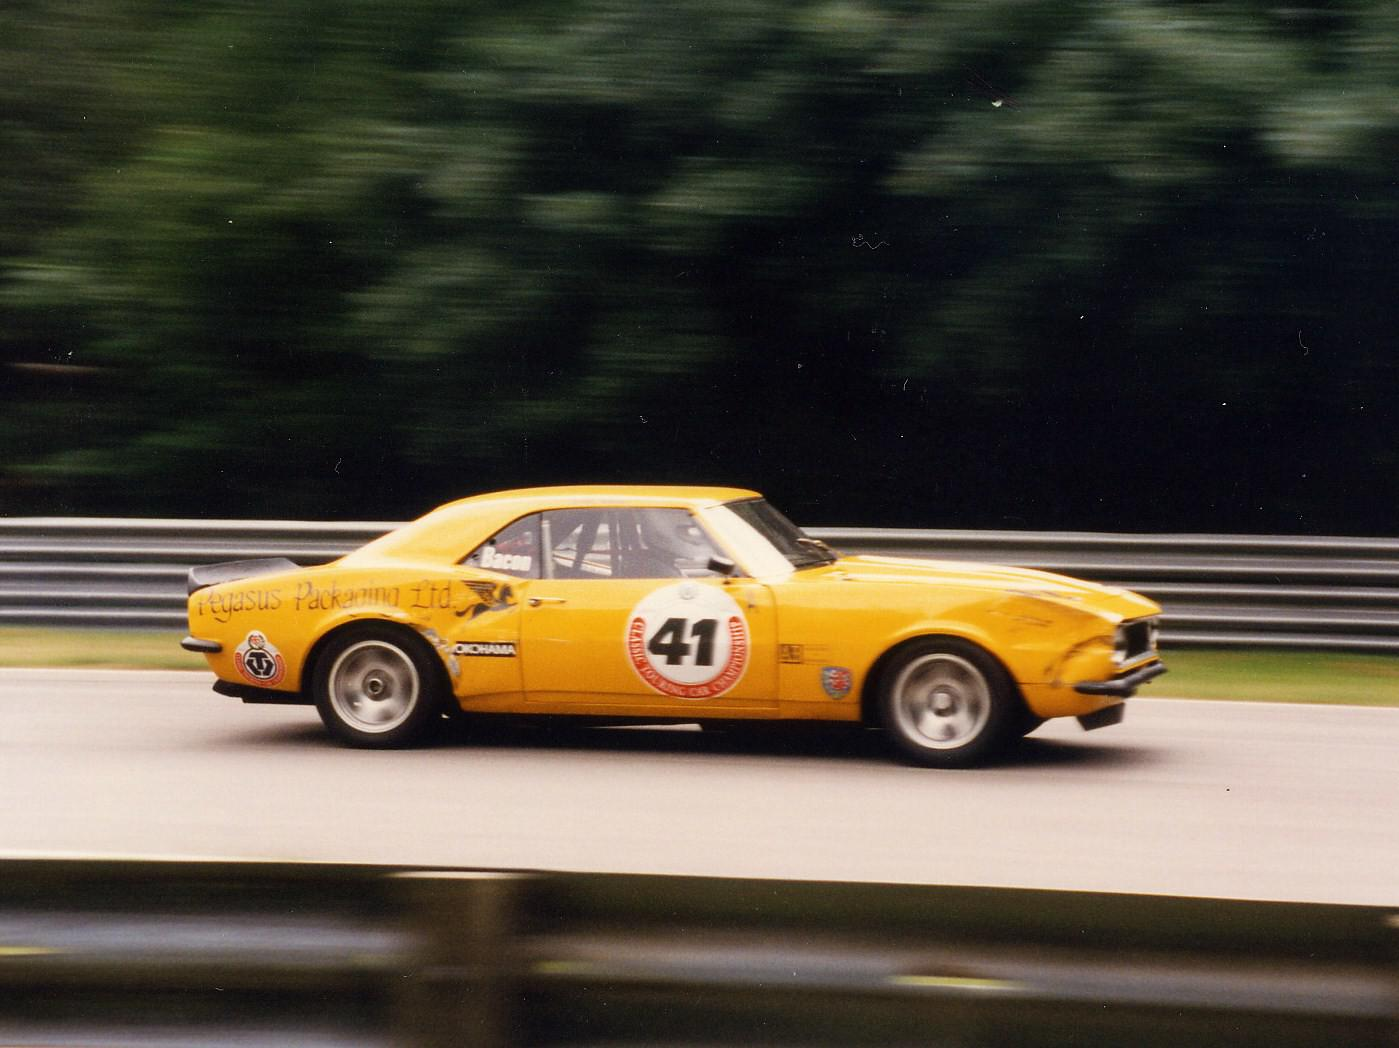fender-dent: (801, 563, 1110, 729)
